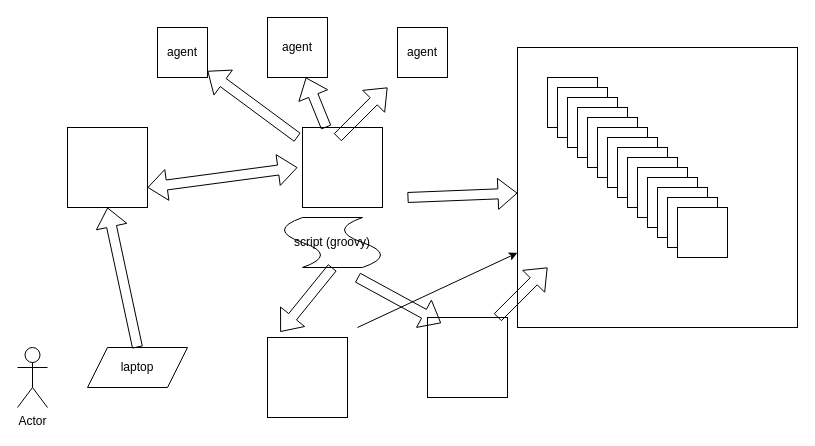
The diagram is 815 pixels wide and 446 high, and some of its shapes have lost their labels. The centre of each missing label's shape, as x and y in pixels:
"bit bucket holds source code" belongs at pixel 107 167.
"Helm k8s deploment files" belongs at pixel 467 357.
"Jenkins" belongs at pixel 342 167.
"Nexus Docker images" belongs at pixel 307 377.
